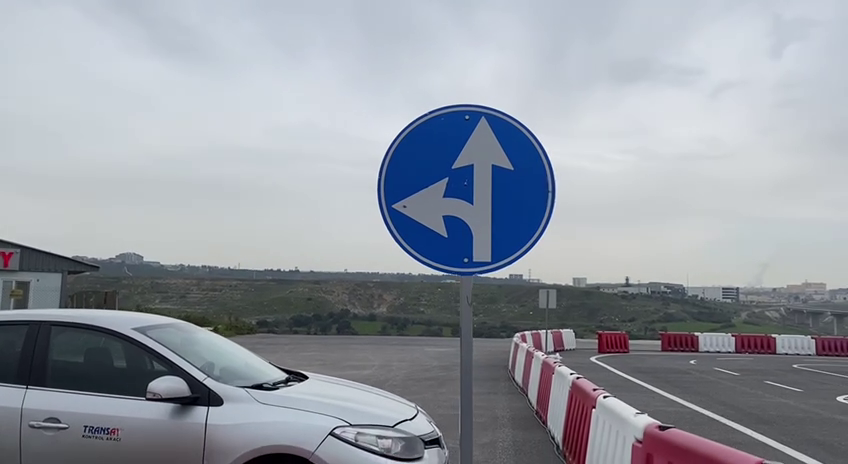forwardAndLeft: (371, 98, 560, 281)
